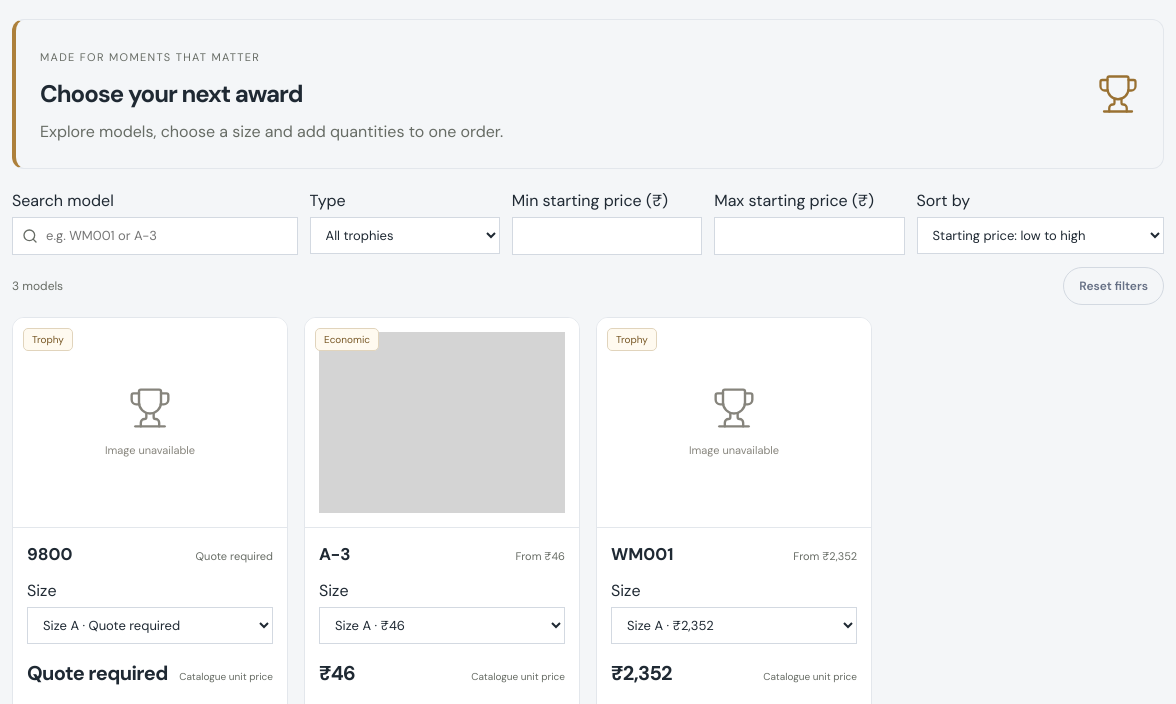
Scenario: Trophy catalogue › honors backend deactivation and handles empty searches and missing images
The image size is (1176, 704).
expect the 2nd text "Image unavailable" is shown: met, box [689, 442, 779, 458]
Type "no-such-model" into the field named "Search trophy model" at (155, 236), box [12, 217, 298, 254]
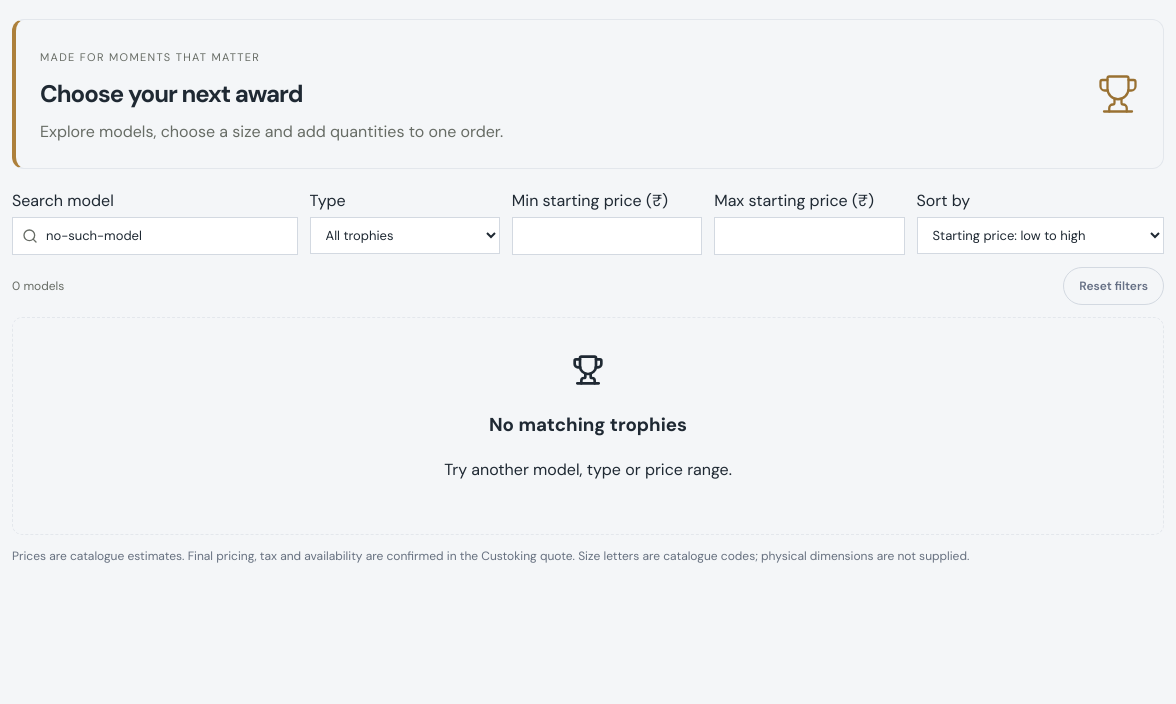
expect the heading "No matching trophies" is shown: met, box [489, 412, 687, 437]
Click the button "Reset filters" at (1114, 286), box [1063, 266, 1164, 304]
(page scrolled)
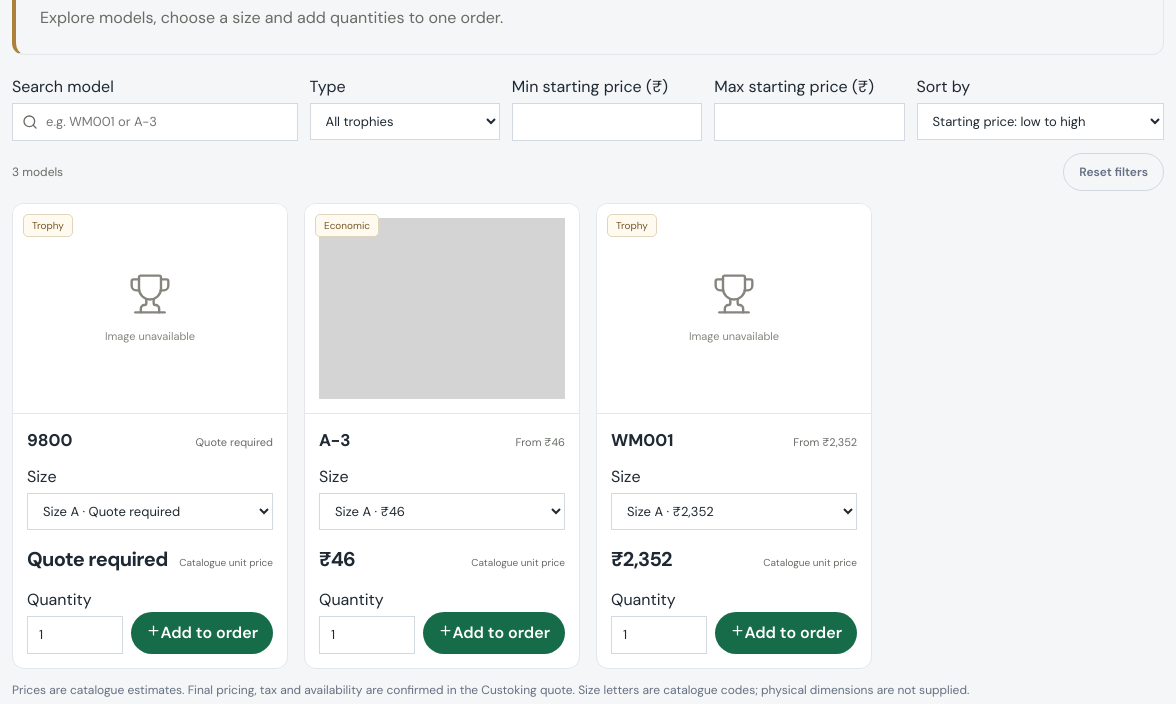
expect the element "Trophy WM001" is shown: met, box [596, 202, 872, 668]
